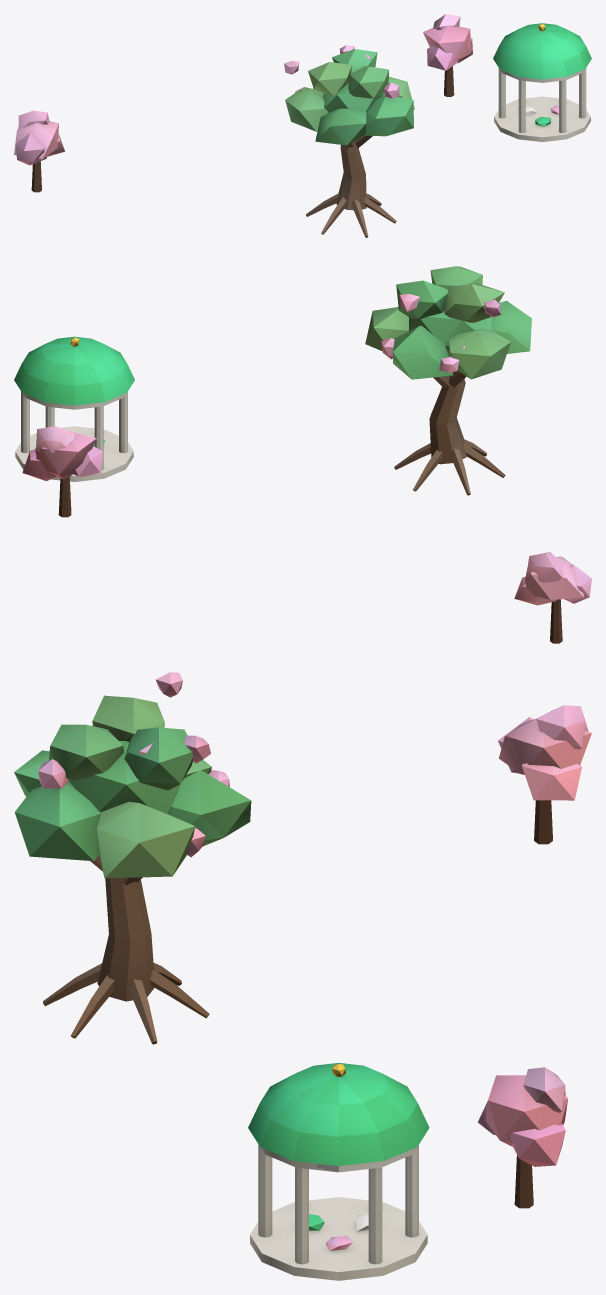
Rendered from area_spring_4_5.fbx.
3 renders of one model, top to bottom at view 1: azimuth 30°, elevation 25°; view 2: azimuth 150°, elevation 25°; view 3: azimuth 270°, elevation 25°, orthographic. The views are drawn at different scales.
Visible parts, largest first — view 1: area_spring_4_5_body; view 2: area_spring_4_5_body; view 3: area_spring_4_5_body.
Boxes of the visible parts, box(x1,y1,x2,y2) form: area_spring_4_5_body: box(14, 14, 591, 237); area_spring_4_5_body: box(14, 266, 591, 643); area_spring_4_5_body: box(14, 672, 591, 1280).
Bounding box in the file's own units: 14144 × 4370 × 7481.
Materials: 1 (1 with a texture image).
